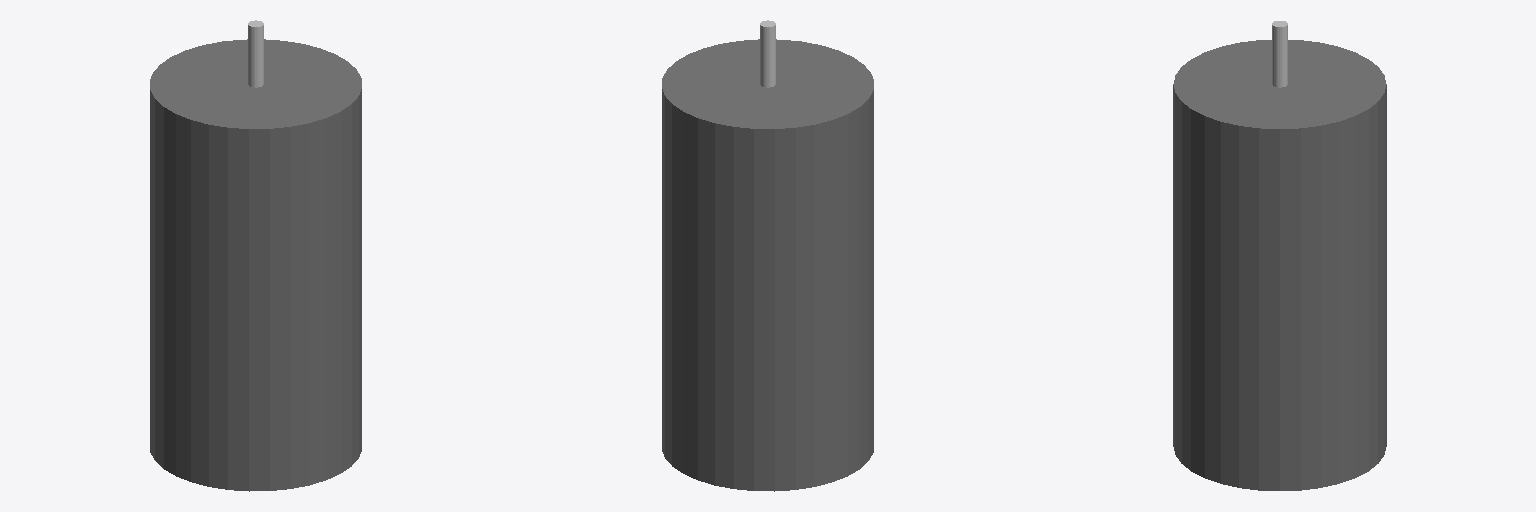
The robot description file, URDF, robot "milling_tool":
<?xml version="1.0"?>
<!--
  Minimal milling tool URDF for pybullet_industrial.
  Represents a generic milling spindle with endmill.
  Has base_link + tcp link connected by a fixed joint.
  The tcp link is at the endmill tip where material is removed.
-->
<robot name="milling_tool">
  <link name="base_link">
    <visual>
      <origin xyz="0 0 0.075" rpy="0 0 0" />
      <geometry>
        <cylinder radius="0.04" length="0.15" />
      </geometry>
      <material name="tool_gray">
        <color rgba="0.5 0.5 0.5 1.0"/>
      </material>
    </visual>
    <collision>
      <origin xyz="0 0 0.075" rpy="0 0 0" />
      <geometry>
        <cylinder radius="0.04" length="0.15" />
      </geometry>
    </collision>
    <inertial>
      <mass value="2.0"/>
      <origin xyz="0 0 0.075" rpy="0 0 0"/>
      <inertia ixx="0.002" ixy="0" ixz="0" iyy="0.002" iyz="0" izz="0.001"/>
    </inertial>
  </link>

  <link name="tcp">
    <visual>
      <origin xyz="0 0 0" rpy="0 0 0" />
      <geometry>
        <cylinder radius="0.003" length="0.05" />
      </geometry>
      <material name="endmill_silver">
        <color rgba="0.8 0.8 0.8 1.0"/>
      </material>
    </visual>
    <inertial>
      <mass value="0.05"/>
      <inertia ixx="0.00001" ixy="0" ixz="0" iyy="0.00001" iyz="0" izz="0.00001"/>
    </inertial>
  </link>

  <joint name="base_to_tcp" type="fixed">
    <origin xyz="0 0 0.15" rpy="0 0 0"/>
    <parent link="base_link"/>
    <child link="tcp"/>
  </joint>
</robot>

--- What the picture shows (computed from the rendered views, not written in the file) ---
The picture shows the robot from 3 angles, left to right: view 1: azimuth 30°, elevation 25°; view 2: azimuth 150°, elevation 25°; view 3: azimuth 270°, elevation 25°; orthographic projection.
Model milling_tool with 2 links and 1 joints (1 fixed), rooted at base_link, posed every joint at zero.
Links seen in each view (by area): view 1: base_link, tcp; view 2: base_link, tcp; view 3: base_link, tcp.
Link boxes in pixels (x1,y1,x2,y2): base_link: (150, 39, 361, 491); tcp: (248, 20, 263, 87); base_link: (662, 39, 873, 491); tcp: (760, 20, 775, 87); base_link: (1173, 40, 1386, 490); tcp: (1272, 21, 1287, 87).
Bounding box of the posed robot: 0.08 × 0.08 × 0.175 m (x, y, z).
Geometry: primitives only (box / cylinder / sphere), no mesh files.